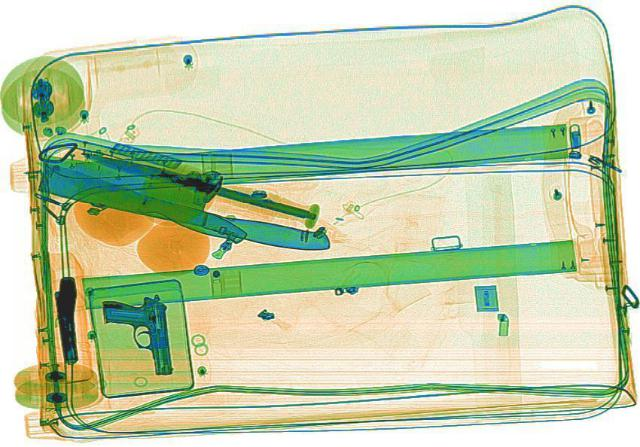Gun: (99, 291, 178, 377), (49, 276, 83, 363)
Knife: (24, 148, 343, 261), (25, 151, 253, 248), (75, 145, 313, 220)
